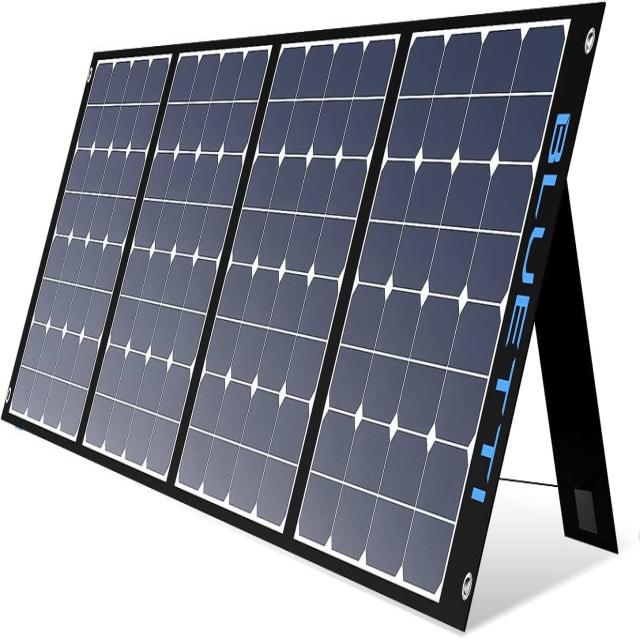clean-solar-panel: (429, 229, 476, 298)
